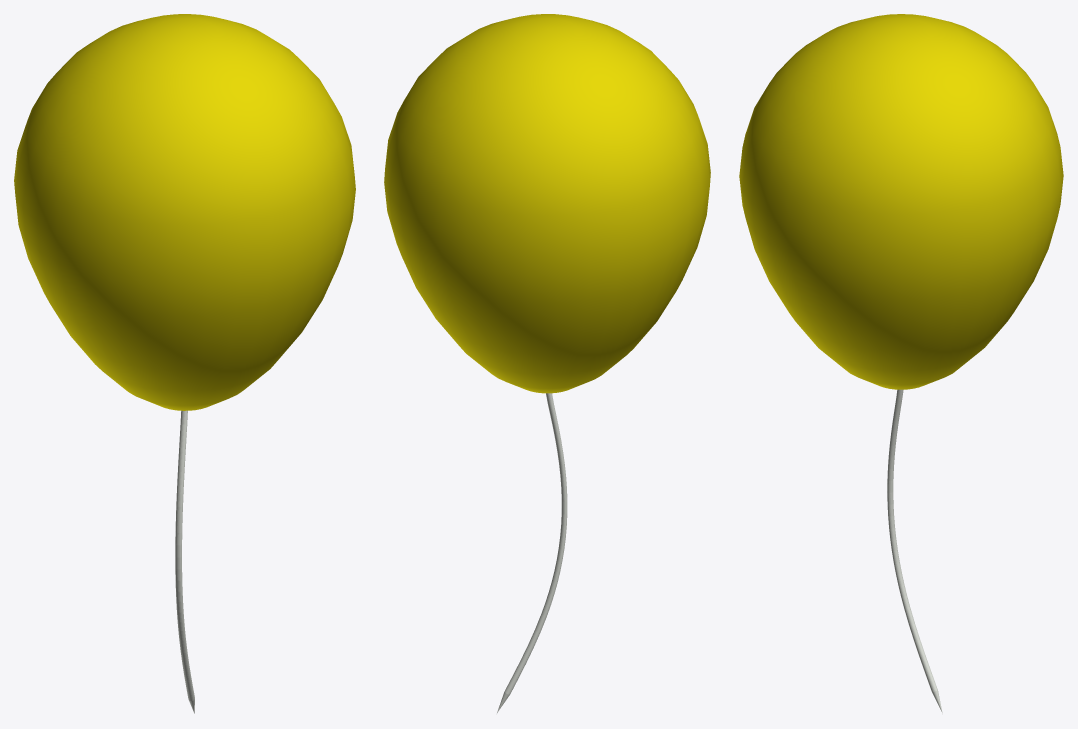
File: BloonYel.fbx
3 views of the same model, side by side, from view 1: azimuth 30°, elevation 25°; view 2: azimuth 150°, elevation 25°; view 3: azimuth 270°, elevation 25° (orthographic). The views are drawn at different scales.
Visible parts, largest first — view 1: bloon.003; view 2: bloon.003; view 3: bloon.003.
Boxes of the visible parts, box(x1,y1,x2,y2) form: bloon.003: box(14, 14, 355, 713); bloon.003: box(384, 14, 710, 712); bloon.003: box(739, 14, 1063, 713).
Bounding box in the file's own units: 430 × 981 × 430.
